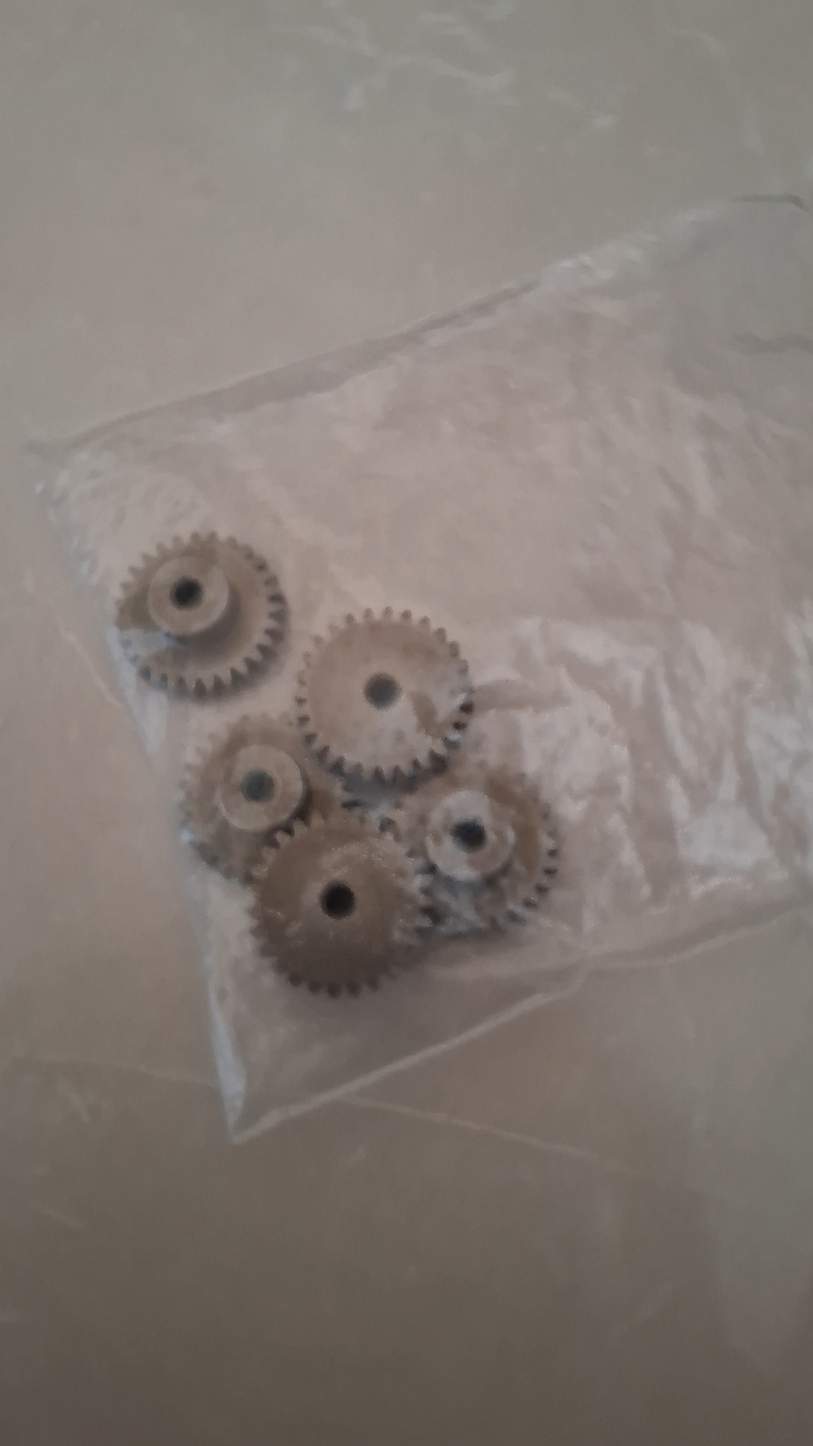spur gear: (251, 811, 428, 994), (296, 609, 472, 784), (116, 534, 286, 695), (181, 716, 340, 880), (393, 769, 557, 927)
